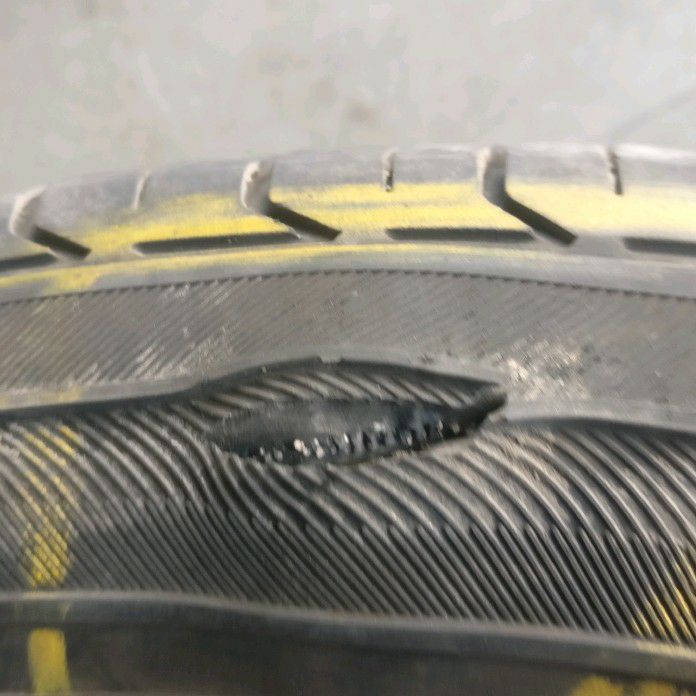cut: (196, 392, 510, 469)
